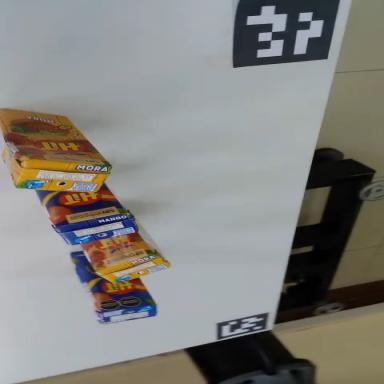HIT-MANGO: (59, 229, 161, 343), (37, 171, 138, 250)
HIT-MORA: (0, 108, 116, 199), (80, 225, 171, 288)
cara_F: (66, 229, 156, 331), (0, 109, 117, 169), (36, 174, 130, 230), (82, 224, 153, 273)
